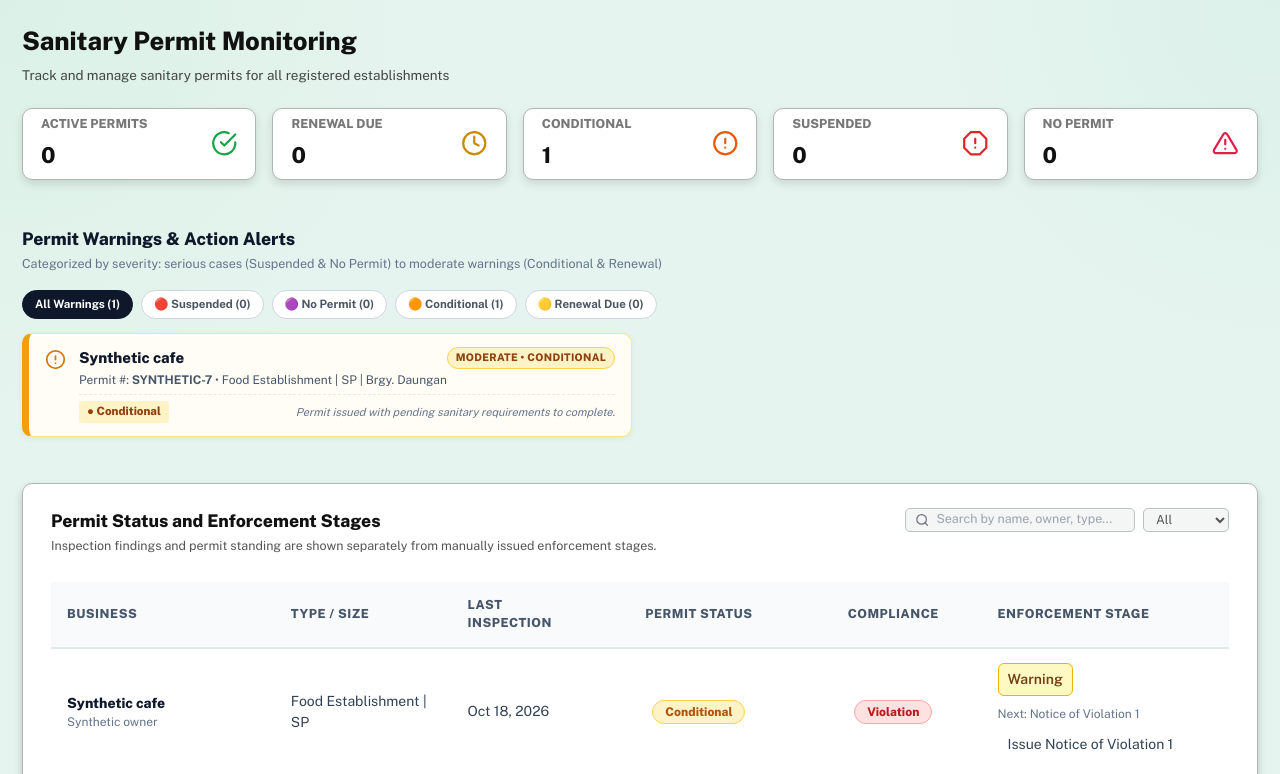
Test case: warning offers only its exact next stage with confirmation
The width and height of the screenshot is (1280, 774).
What coordinates should you click on to do the following:
click the button "Issue Notice of Violation 1"
I would click on:
 (1090, 744)
Its box is left=998, top=728, right=1183, bottom=761.
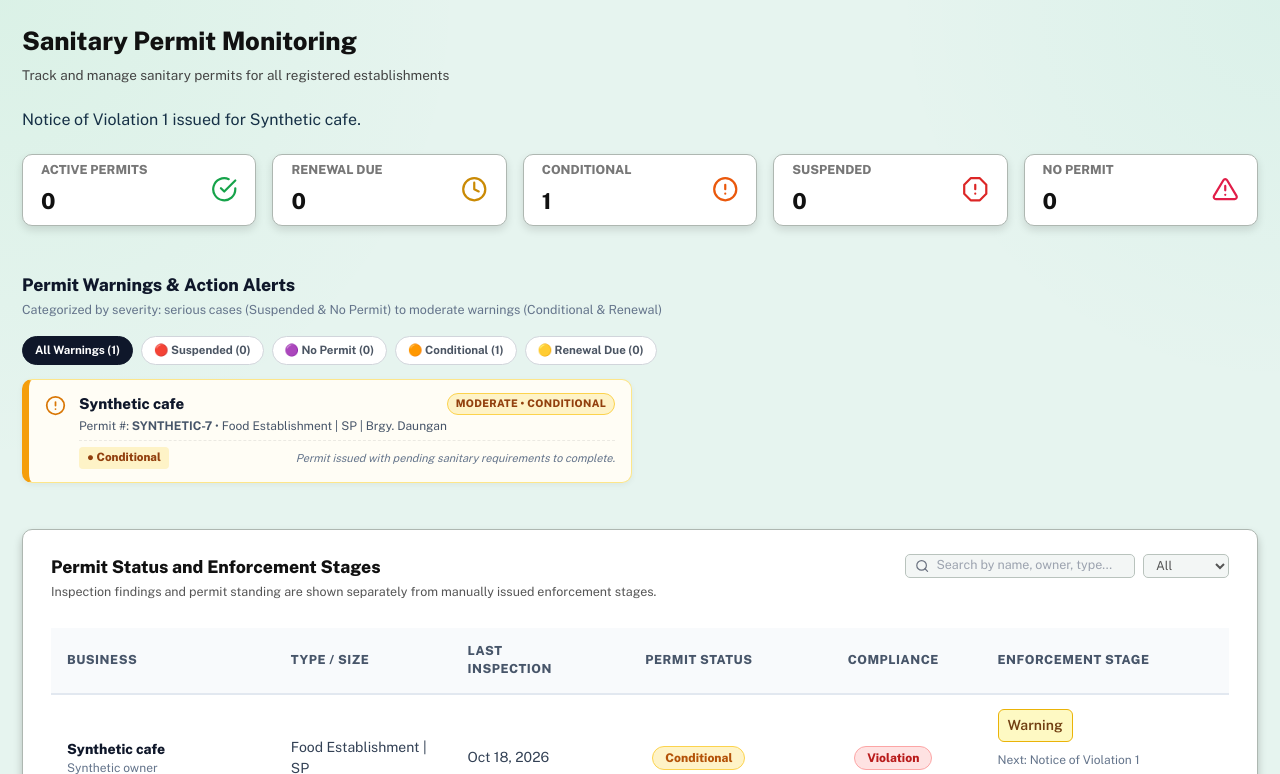
expect the message "Notice of Violation 1 issued for Synthetic cafe." is shown: met, box left=22, top=110, right=361, bottom=128
